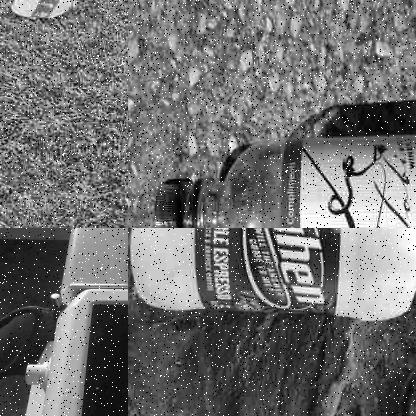plastic: (130, 228, 415, 325), (148, 130, 415, 227), (14, 0, 81, 22)
